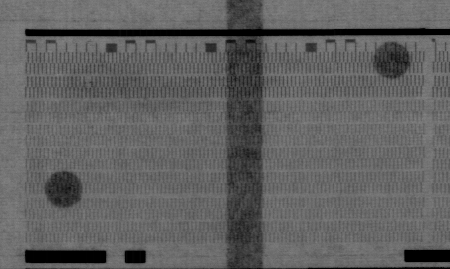Broken hole: (82, 76, 95, 89)
